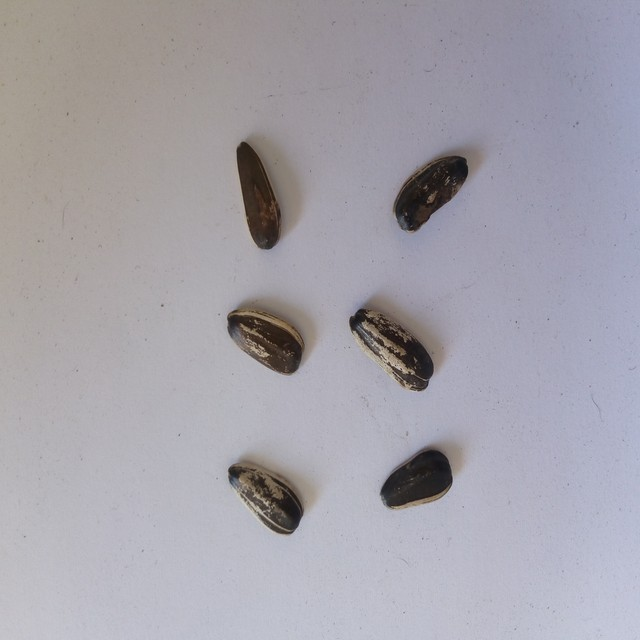girasol: (345, 304, 448, 400), (389, 148, 471, 240), (227, 135, 288, 256), (219, 457, 306, 539), (217, 303, 309, 380), (375, 448, 461, 515)
